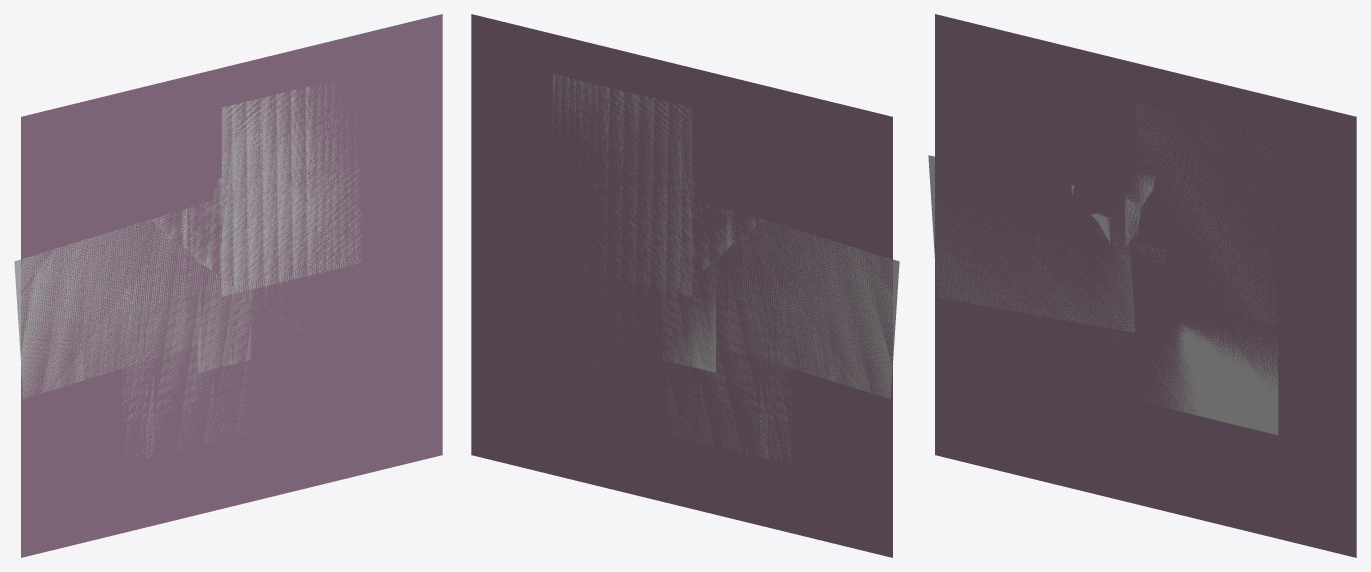
The model's file is Skeleton Prefab Mesh _Butterfly (1)_.glb.
The picture shows the model from 3 angles, left to right: view 1: azimuth 30°, elevation 25°; view 2: azimuth 150°, elevation 25°; view 3: azimuth 330°, elevation 25°; orthographic projection.
Visible parts, largest first — view 1: Skeleton Prefab Mesh [Butterfly (1)]; view 2: Skeleton Prefab Mesh [Butterfly (1)]; view 3: Skeleton Prefab Mesh [Butterfly (1)].
Boxes of the visible parts, bbox=[...] form: Skeleton Prefab Mesh [Butterfly (1)]: bbox=[14, 14, 442, 557]; Skeleton Prefab Mesh [Butterfly (1)]: bbox=[471, 14, 899, 557]; Skeleton Prefab Mesh [Butterfly (1)]: bbox=[928, 14, 1356, 557].
Bounding box in the file's own units: 0.6387 × 0.6287 × 0.
